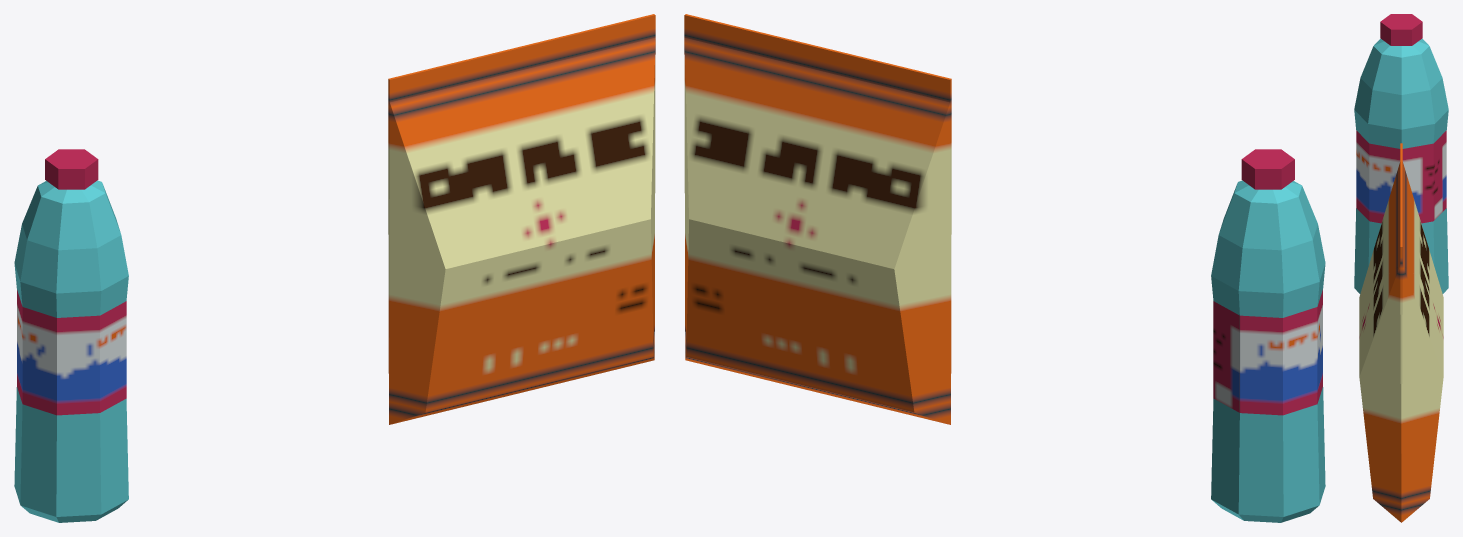
Rendered from trash.fbx.
3 views of the same model, side by side, from view 1: azimuth 30°, elevation 25°; view 2: azimuth 150°, elevation 25°; view 3: azimuth 270°, elevation 25° (orthographic). The views are drawn at different scales.
Parts seen in each view (by area): view 1: trash.chips, trash.bottle; view 2: trash.chips, trash.bottle; view 3: trash.chips, trash.bottle.
Part boxes in pixels (bbox=[...]): trash.chips: bbox=[388, 14, 655, 424]; trash.bottle: bbox=[14, 149, 128, 522]; trash.chips: bbox=[684, 14, 951, 424]; trash.bottle: bbox=[1211, 149, 1325, 522]; trash.chips: bbox=[1359, 143, 1443, 522]; trash.bottle: bbox=[1354, 14, 1448, 293].
Bounding box in the file's own units: 312 × 163 × 50.53.
Materials: 1 (1 with a texture image).
